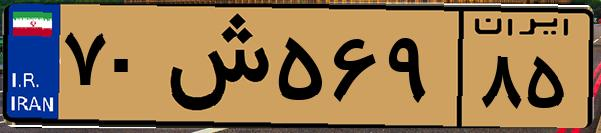0: (110, 28, 158, 98)
5: (270, 28, 330, 110), (525, 38, 570, 115)
6: (330, 28, 385, 110)
7: (57, 26, 110, 100)
8: (475, 38, 525, 113)
9: (385, 28, 445, 110)
ش: (158, 12, 270, 120)
